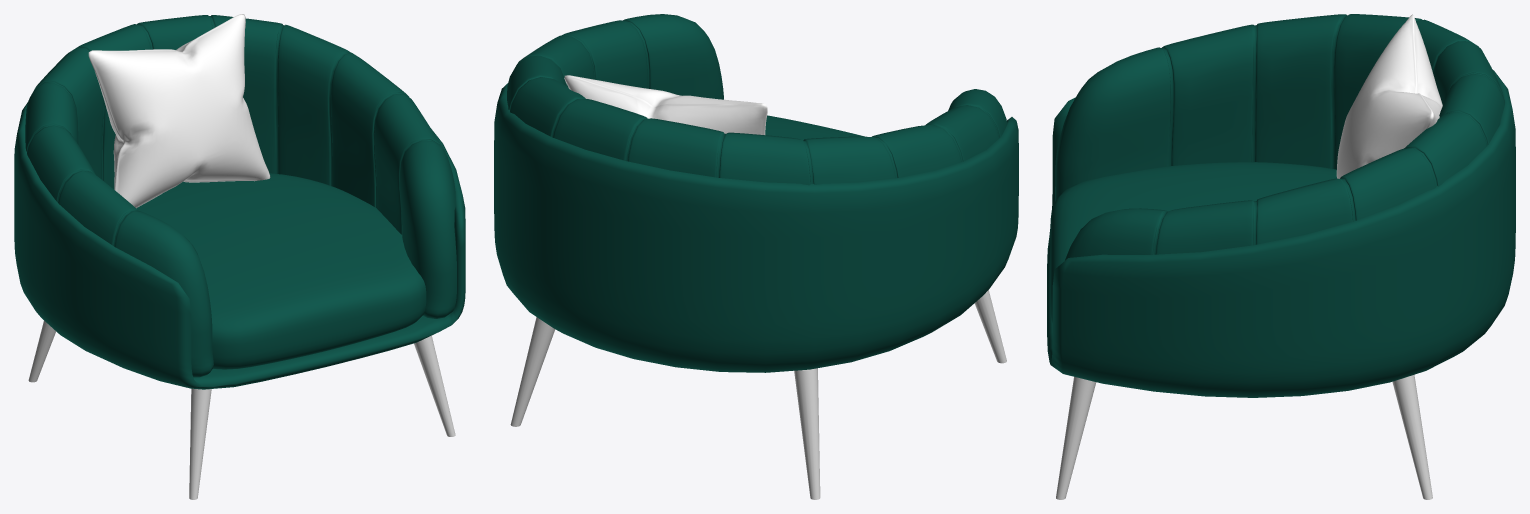
The model's file is sofa_chair_opt.glb.
The picture shows the model from 3 angles, left to right: view 1: azimuth 30°, elevation 25°; view 2: azimuth 150°, elevation 25°; view 3: azimuth 270°, elevation 25°; orthographic projection. The views are drawn at different scales.
Visible parts, largest first — view 1: Cube.001_3_1, Cube.002_4_3, Cube_2_5, Plane_6_9, Cylinder_5_7; view 2: Cube_2_5, Cube.001_3_1, Plane_6_9, Cylinder_5_7, Cube.002_4_3; view 3: Cube_2_5, Cube.001_3_1, Cube.002_4_3, Plane_6_9, Cylinder_5_7.
Boxes of the visible parts, box(x1,y1,x2,y2) form: Cube.001_3_1: box(25, 15, 456, 377); Cube.002_4_3: box(136, 173, 426, 369); Cube_2_5: box(14, 102, 465, 389); Plane_6_9: box(88, 14, 270, 208); Cylinder_5_7: box(28, 320, 455, 499); Cube_2_5: box(494, 83, 1018, 372); Cube.001_3_1: box(507, 14, 1007, 185); Plane_6_9: box(564, 75, 767, 134); Cylinder_5_7: box(510, 290, 1006, 499); Cube.002_4_3: box(765, 115, 864, 140); Cube_2_5: box(1047, 69, 1515, 397); Cube.001_3_1: box(1055, 14, 1504, 260); Cube.002_4_3: box(1050, 162, 1336, 322); Plane_6_9: box(1336, 14, 1442, 178); Cylinder_5_7: box(1056, 374, 1432, 499).
Bounding box in the file's own units: 1.69 × 1.39 × 1.6.
